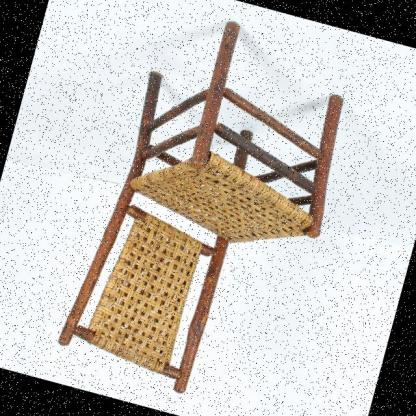Chair: (26, 0, 388, 416)
